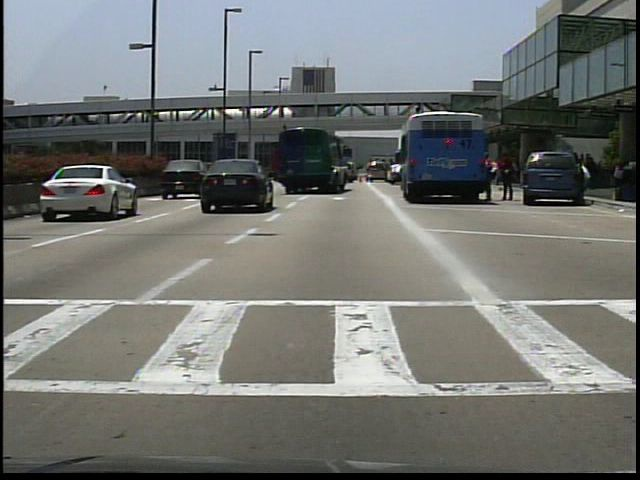person: (483, 151, 499, 202), (498, 155, 514, 202), (577, 160, 594, 201)
